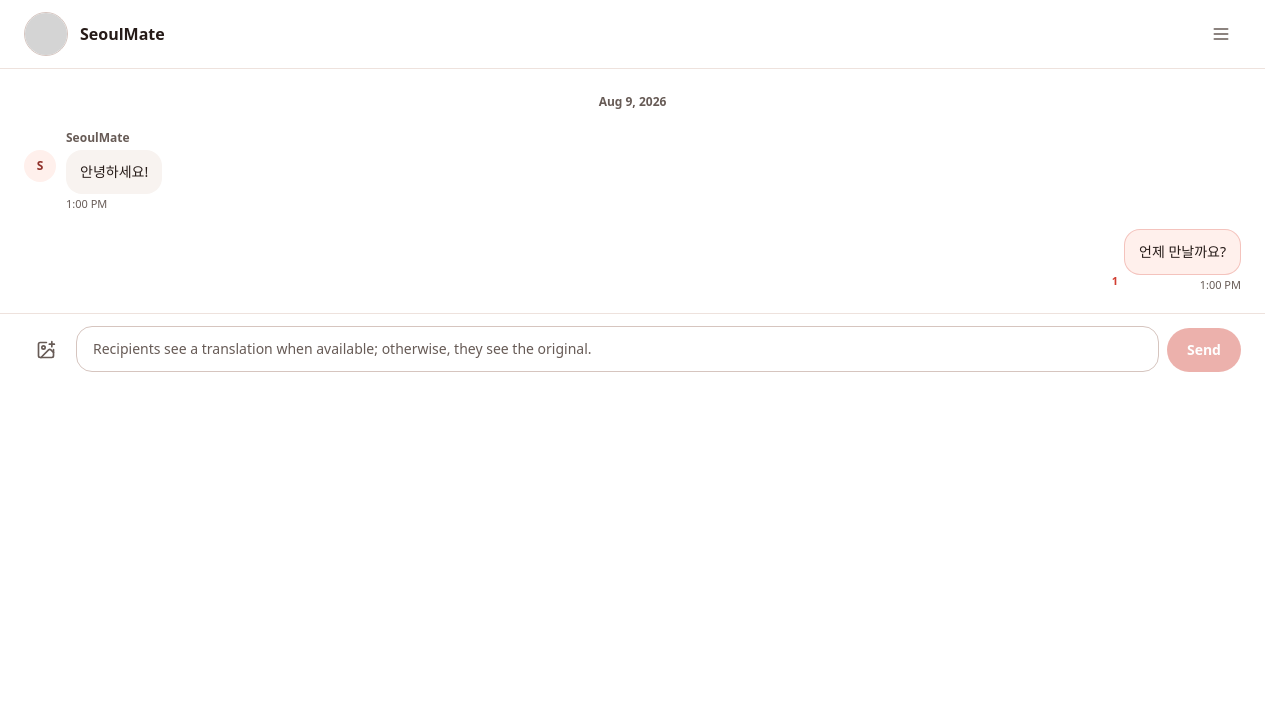
Test case: ChatRoomView › keeps the member list out of a one-to-one conversation
The image size is (1280, 720).
Click the button named "Conversation menu" at (1221, 34), box [1201,14,1241,54]
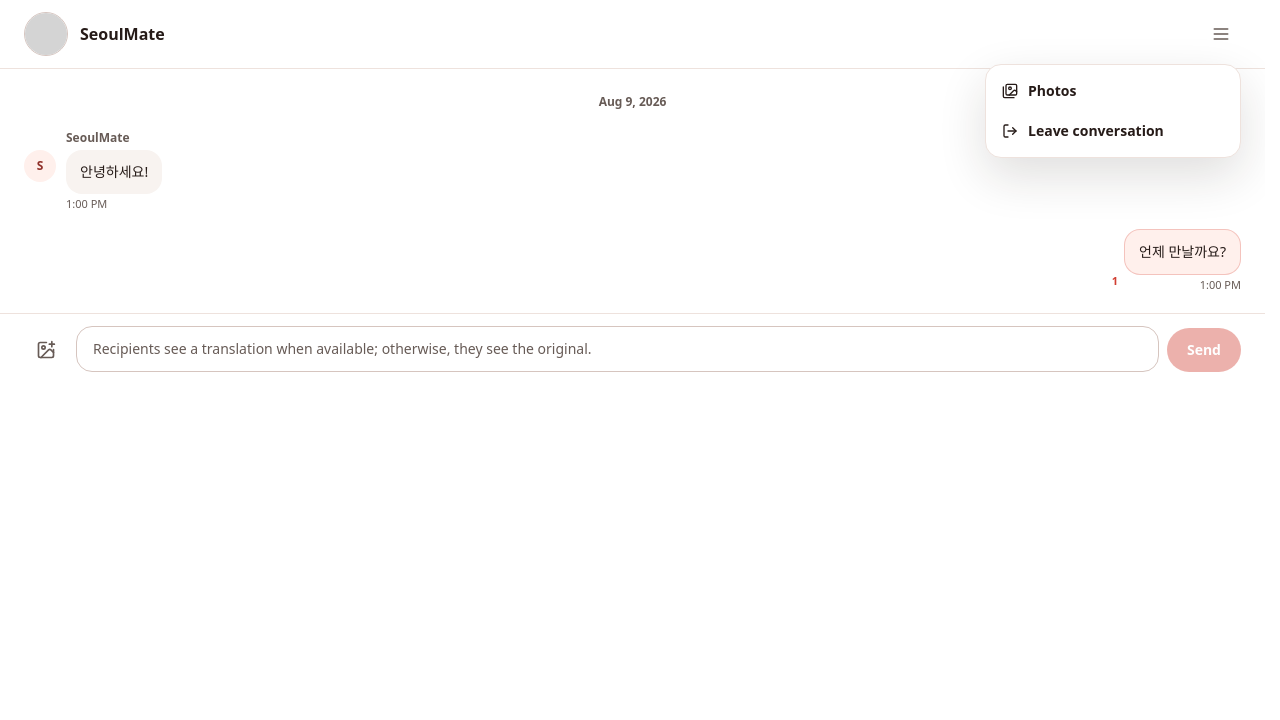
Check: the button "Photos" is shown, box [992,71,1234,111]
